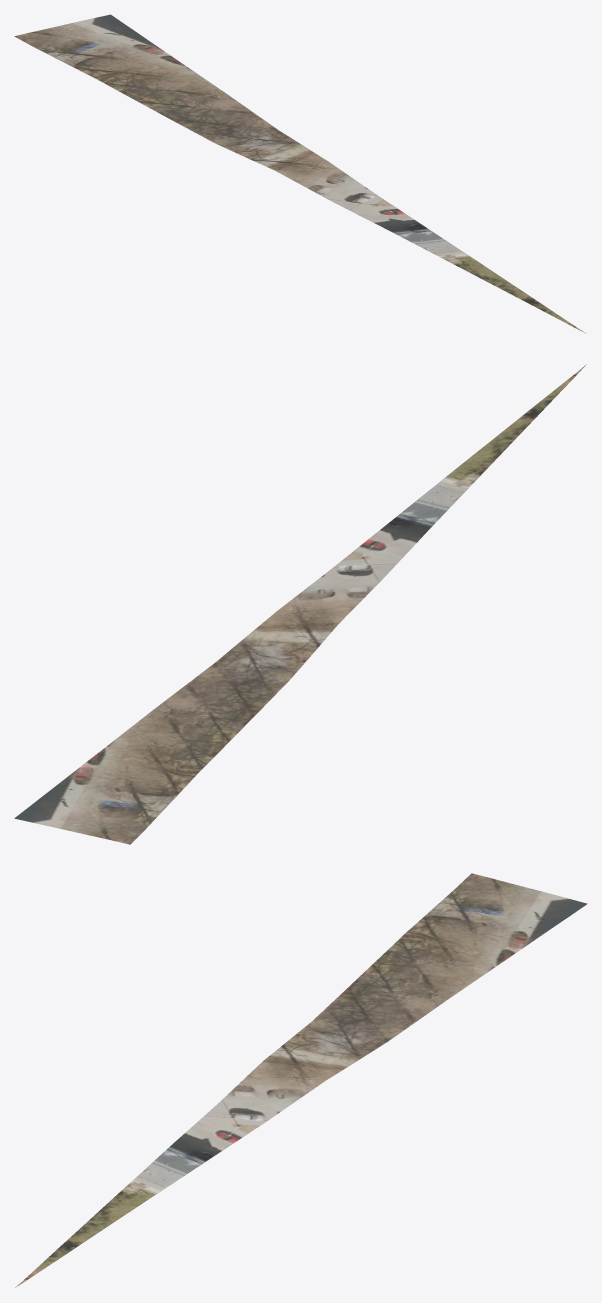
The model's file is CM_Terrain_24485749_6820818.fbx.
The picture shows the model from 3 angles, top to bottom: view 1: azimuth 30°, elevation 25°; view 2: azimuth 150°, elevation 25°; view 3: azimuth 330°, elevation 25°; orthographic projection. The views are drawn at different scales.
Parts seen in each view (by area): view 1: CM_Terrain_24485749_6820818_LOD0; view 2: CM_Terrain_24485749_6820818_LOD0; view 3: CM_Terrain_24485749_6820818_LOD0.
Part boxes in pixels (left/top/right/bottom): CM_Terrain_24485749_6820818_LOD0: left=14, top=14, right=586, bottom=333; CM_Terrain_24485749_6820818_LOD0: left=14, top=364, right=586, bottom=844; CM_Terrain_24485749_6820818_LOD0: left=15, top=873, right=587, bottom=1287.
Size of what is drawn, in the model's own units: 16.69 by 4.83 by 143.
